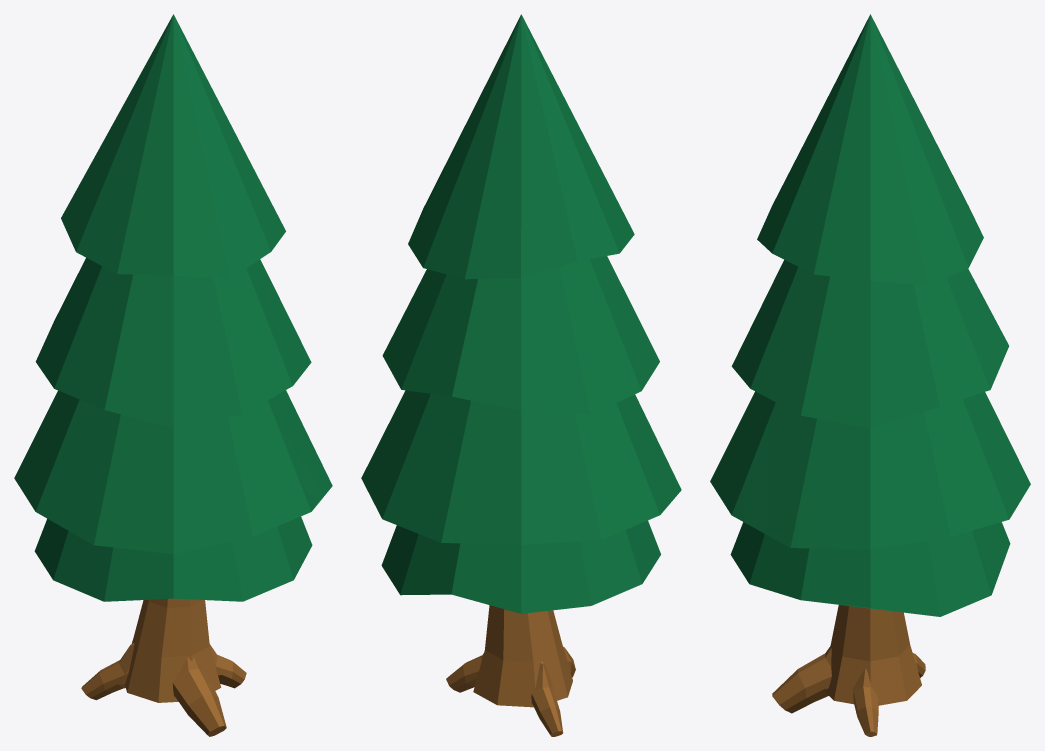
The model's file is Tree 5.fbx.
The picture shows the model from 3 angles, left to right: view 1: azimuth 30°, elevation 25°; view 2: azimuth 150°, elevation 25°; view 3: azimuth 270°, elevation 25°; orthographic projection.
Parts seen in each view (by area): view 1: pCylinder7; view 2: pCylinder7; view 3: pCylinder7.
Part boxes in pixels (left/top/right/bottom): pCylinder7: left=14, top=14, right=332, bottom=736; pCylinder7: left=361, top=14, right=681, bottom=736; pCylinder7: left=710, top=14, right=1030, bottom=736.
Bounding box in the file's own units: 823 × 1976 × 823.
